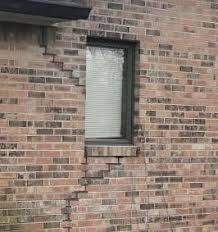crack: (104, 153, 125, 177), (71, 180, 87, 208)
